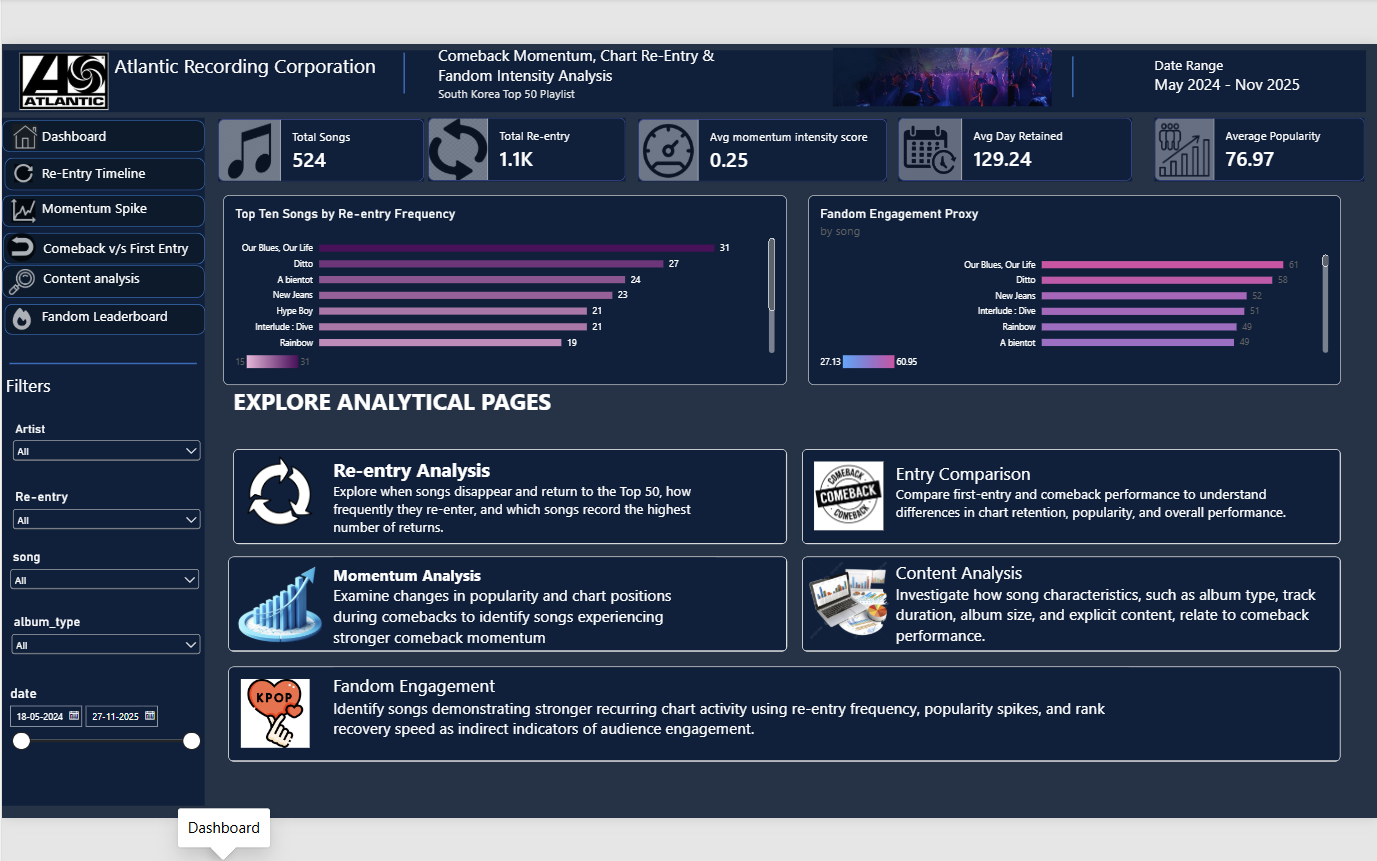

This screenshot's page, from the dashboard's own definition file:
{"tool":"powerbi","page":{"name":"Dashboard","canvas":[1920,1080],"ordinal":0},"visuals":[{"type":"actionButton","box":[322.7,565.1,772.7,132.6],"z":0},{"type":"shape","box":[0,102.9,282.9,960],"z":1000},{"type":"slicer","fields":{"Values":["Atlantic_South_Korea_data_processed.artist"]},"box":[10.3,526.9,271.4,94.3],"z":2000},{"type":"slicer","fields":{"Values":["Atlantic_South_Korea_data_processed.date"]},"box":[4.1,895.4,277.1,145.7],"z":3000},{"type":"slicer","fields":{"Values":["Atlantic_South_Korea_data_processed.song"]},"box":[6.2,703.9,272.9,77.1],"z":4000},{"type":"slicer","fields":{"Values":["Atlantic_South_Korea_data_processed.re_entry"]},"box":[10.3,621.6,271.4,77.1],"z":5000},{"type":"cardVisual","fields":{"Data":["Avg(Atlantic_South_Korea_data_processed.days_retained)"]},"box":[1250.6,102.9,326.2,89],"z":6000},{"type":"cardVisual","fields":{"Data":["Count(Atlantic_South_Korea_data_processed.song)"]},"box":[302.1,105,287.1,87.1],"z":7000},{"type":"cardVisual","fields":{"Data":["Sum(Reentry_Frequency.reentry_frequency)"]},"box":[594.8,102.9,275.6,89],"z":8000},{"type":"cardVisual","fields":{"Data":["Avg(Atlantic_South_Korea_data_processed.momentum_intensity_score)"]},"box":[887.8,104.7,347.1,87.2],"z":9000},{"type":"cardVisual","fields":{"Data":["Avg(Atlantic_South_Korea_data_processed.popularity)"]},"box":[1608.1,102.9,293,89],"z":10000},{"type":"slicer","fields":{"Values":["Atlantic_South_Korea_data_processed.album_type"]},"box":[8.2,794.5,272.9,72.9],"z":11000},{"type":"shape","box":[1.7,8.3,1901.7,86.7],"z":12000},{"type":"image","box":[15,11.7,141.7,80],"z":13000},{"type":"textbox","box":[156.7,11.7,406.7,80],"z":14000},{"type":"shape","box":[533.3,11.7,55,56.7],"z":15000},{"type":"shape","box":[1480,18,26.7,56.7],"z":16000},{"type":"textbox","box":[608.3,0,420,86.7],"z":17000},{"type":"textbox","box":[1608.3,15,260,71.7],"z":18000},{"type":"image","box":[1076.7,5,471.7,81.7],"z":19000},{"type":"shape","box":[0,105.7,282.9,44.3],"z":20000},{"type":"image","box":[1.2,111.2,61.2,36.2],"z":21000},{"type":"textbox","box":[55.7,115.7,202.9,34.3],"z":22000},{"type":"shape","box":[2.9,158.6,280,45.7],"z":23000},{"type":"shape","box":[0,211.4,282.9,44.3],"z":24000},{"type":"shape","box":[1.4,262.9,281.4,44.3],"z":25000},{"type":"shape","box":[0,308.6,282.9,45.7],"z":26000},{"type":"image","box":[2.9,167.1,52.9,25.7],"z":27000},{"type":"image","box":[2.9,215.7,52.9,32.9],"z":28000},{"type":"image","box":[0,262.9,55,40],"z":29000},{"type":"image","box":[0,314.3,55,36.2],"z":30000},{"type":"textbox","box":[55.8,167.4,202.3,36.6],"z":31000},{"type":"textbox","box":[55.7,215.7,202.3,36.6],"z":32000},{"type":"textbox","box":[57.1,271.4,219.8,36.6],"z":33000},{"type":"textbox","box":[57.5,313.8,202.3,36.6],"z":34000},{"type":"shape","box":[2.9,362.9,280,42.9],"z":35000},{"type":"image","box":[0,366.2,55,36.2],"z":36000},{"type":"textbox","box":[55,366.2,205,36.2],"z":37000},{"type":"textbox","box":[5.7,460,277.1,32.9],"z":38000},{"type":"shape","box":[10,430,261.4,30],"z":39000},{"type":"textbox","box":[322.7,476.2,516.3,64.5],"z":40000},{"type":"textbox","box":[462.2,575.6,552.9,113.4],"z":41000},{"type":"actionButton","box":[315.7,715.1,779.7,132.6],"z":42000},{"type":"actionButton","box":[315.7,868.6,1552.3,132.6],"z":43000},{"type":"actionButton","box":[1116.3,565.1,751.7,132.6],"z":44000},{"type":"actionButton","box":[1116.3,715.1,751.7,132.6],"z":45000},{"type":"image","box":[308.7,715.1,158.7,132.6],"z":46000},{"type":"image","box":[315.7,886,130.8,95.9],"z":47000},{"type":"image","box":[322.7,575.6,130.8,95.9],"z":48000},{"type":"image","box":[1116.3,715.1,130.8,122.1],"z":49000},{"type":"textbox","box":[481.4,706.4,287,150],"z":50000},{"type":"textbox","box":[462.2,725.6,532,122.1],"z":51000},{"type":"textbox","box":[1247.1,582.6,545.9,95.9],"z":52000},{"type":"textbox","box":[1247.1,720.4,587.8,123.8],"z":53000},{"type":"textbox","box":[462.2,879.1,1109.3,122.1],"z":54000},{"type":"image","box":[1116.3,582.6,130.8,95.9],"z":55000},{"type":"barChart","title":"Top Ten Songs by Re-entry Frequency","fields":{"Category":["Reentry_Frequency.song"],"Y":["Sum(Reentry_Frequency.reentry_frequency)"]},"box":[308.7,211,786.6,265.1],"z":56000},{"type":"clusteredBarChart","fields":{"Category":["Fandom_Engagement_Proxy_Top50.song"],"Y":["Sum(Fandom_Engagement_Proxy_Top50.fandom_engagement_proxy)"]},"box":[1125,211,743,265.1],"z":57000}]}

Visuals, with their boxes on the page's 1920x1080 design canvas (x1, y1, x2, y2). These are canvas units, not pixel positions in the 1377x861 screenshot, which may show the page scaled, cropped or inside an application window:
actionButton: x1=323 y1=565 x2=1095 y2=698
shape: x1=0 y1=103 x2=283 y2=1063
slicer - Atlantic_South_Korea_data_processed.artist: x1=10 y1=527 x2=282 y2=621
slicer - Atlantic_South_Korea_data_processed.date: x1=4 y1=895 x2=281 y2=1041
slicer - Atlantic_South_Korea_data_processed.song: x1=6 y1=704 x2=279 y2=781
slicer - Atlantic_South_Korea_data_processed.re_entry: x1=10 y1=622 x2=282 y2=699
cardVisual - Avg(Atlantic_South_Korea_data_processed.days_retained): x1=1251 y1=103 x2=1577 y2=192
cardVisual - Count(Atlantic_South_Korea_data_processed.song): x1=302 y1=105 x2=589 y2=192
cardVisual - Sum(Reentry_Frequency.reentry_frequency): x1=595 y1=103 x2=870 y2=192
cardVisual - Avg(Atlantic_South_Korea_data_processed.momentum_intensity_score): x1=888 y1=105 x2=1235 y2=192
cardVisual - Avg(Atlantic_South_Korea_data_processed.popularity): x1=1608 y1=103 x2=1901 y2=192
slicer - Atlantic_South_Korea_data_processed.album_type: x1=8 y1=794 x2=281 y2=867
shape: x1=2 y1=8 x2=1903 y2=95
image: x1=15 y1=12 x2=157 y2=92
textbox: x1=157 y1=12 x2=563 y2=92
shape: x1=533 y1=12 x2=588 y2=68
shape: x1=1480 y1=18 x2=1507 y2=75
textbox: x1=608 y1=0 x2=1028 y2=87
textbox: x1=1608 y1=15 x2=1868 y2=87
image: x1=1077 y1=5 x2=1548 y2=87
shape: x1=0 y1=106 x2=283 y2=150
image: x1=1 y1=111 x2=62 y2=147
textbox: x1=56 y1=116 x2=259 y2=150
shape: x1=3 y1=159 x2=283 y2=204
shape: x1=0 y1=211 x2=283 y2=256
shape: x1=1 y1=263 x2=283 y2=307
shape: x1=0 y1=309 x2=283 y2=354
image: x1=3 y1=167 x2=56 y2=193
image: x1=3 y1=216 x2=56 y2=249
image: x1=0 y1=263 x2=55 y2=303
image: x1=0 y1=314 x2=55 y2=350
textbox: x1=56 y1=167 x2=258 y2=204
textbox: x1=56 y1=216 x2=258 y2=252
textbox: x1=57 y1=271 x2=277 y2=308
textbox: x1=58 y1=314 x2=260 y2=350
shape: x1=3 y1=363 x2=283 y2=406
image: x1=0 y1=366 x2=55 y2=402
textbox: x1=55 y1=366 x2=260 y2=402
textbox: x1=6 y1=460 x2=283 y2=493
shape: x1=10 y1=430 x2=271 y2=460
textbox: x1=323 y1=476 x2=839 y2=541
textbox: x1=462 y1=576 x2=1015 y2=689
actionButton: x1=316 y1=715 x2=1095 y2=848
actionButton: x1=316 y1=869 x2=1868 y2=1001
actionButton: x1=1116 y1=565 x2=1868 y2=698
actionButton: x1=1116 y1=715 x2=1868 y2=848
image: x1=309 y1=715 x2=467 y2=848
image: x1=316 y1=886 x2=446 y2=982
image: x1=323 y1=576 x2=454 y2=672
image: x1=1116 y1=715 x2=1247 y2=837
textbox: x1=481 y1=706 x2=768 y2=856
textbox: x1=462 y1=726 x2=994 y2=848
textbox: x1=1247 y1=583 x2=1793 y2=678
textbox: x1=1247 y1=720 x2=1835 y2=844
textbox: x1=462 y1=879 x2=1572 y2=1001
image: x1=1116 y1=583 x2=1247 y2=678
"Top Ten Songs by Re-entry Frequency" barChart: x1=309 y1=211 x2=1095 y2=476
clusteredBarChart - Fandom_Engagement_Proxy_Top50.song x Sum(Fandom_Engagement_Proxy_Top50.fandom_engagement_proxy): x1=1125 y1=211 x2=1868 y2=476
